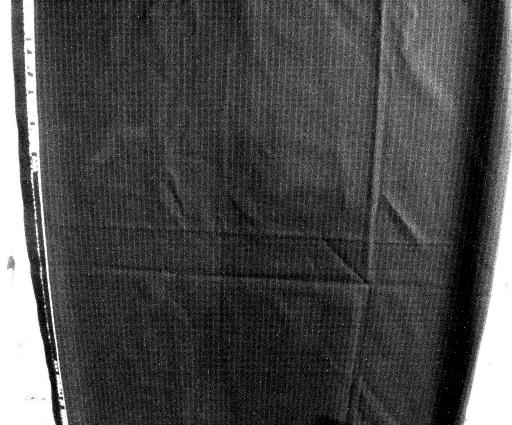fabric_perfect: (2, 0, 511, 425)
